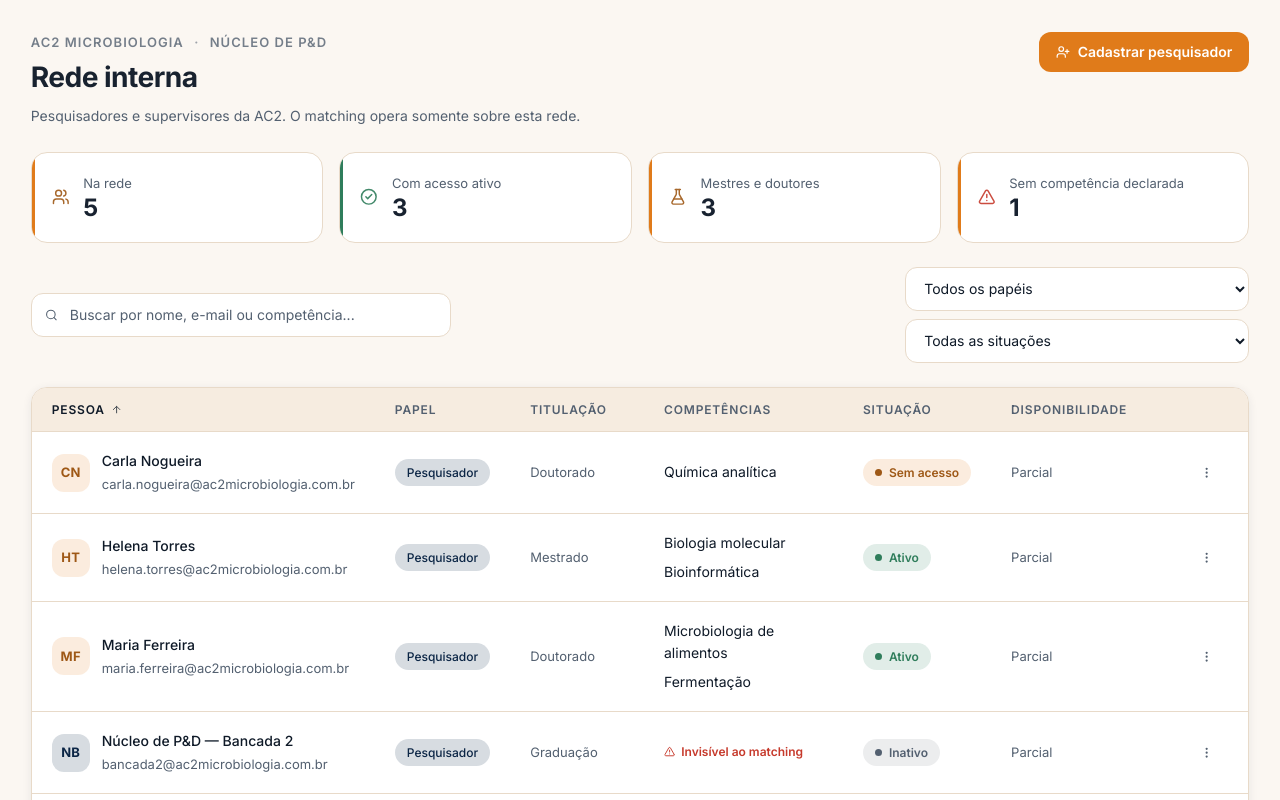
Test case: RedePage › abre a ficha clicando na pessoa, sem passar pelo menu
Expected: the text "Maria Ferreira" is shown, [102, 636, 195, 653]
Click the button with aria-label "abrir a ficha de helena torres".
click(71, 558)  # box [52, 535, 355, 580]
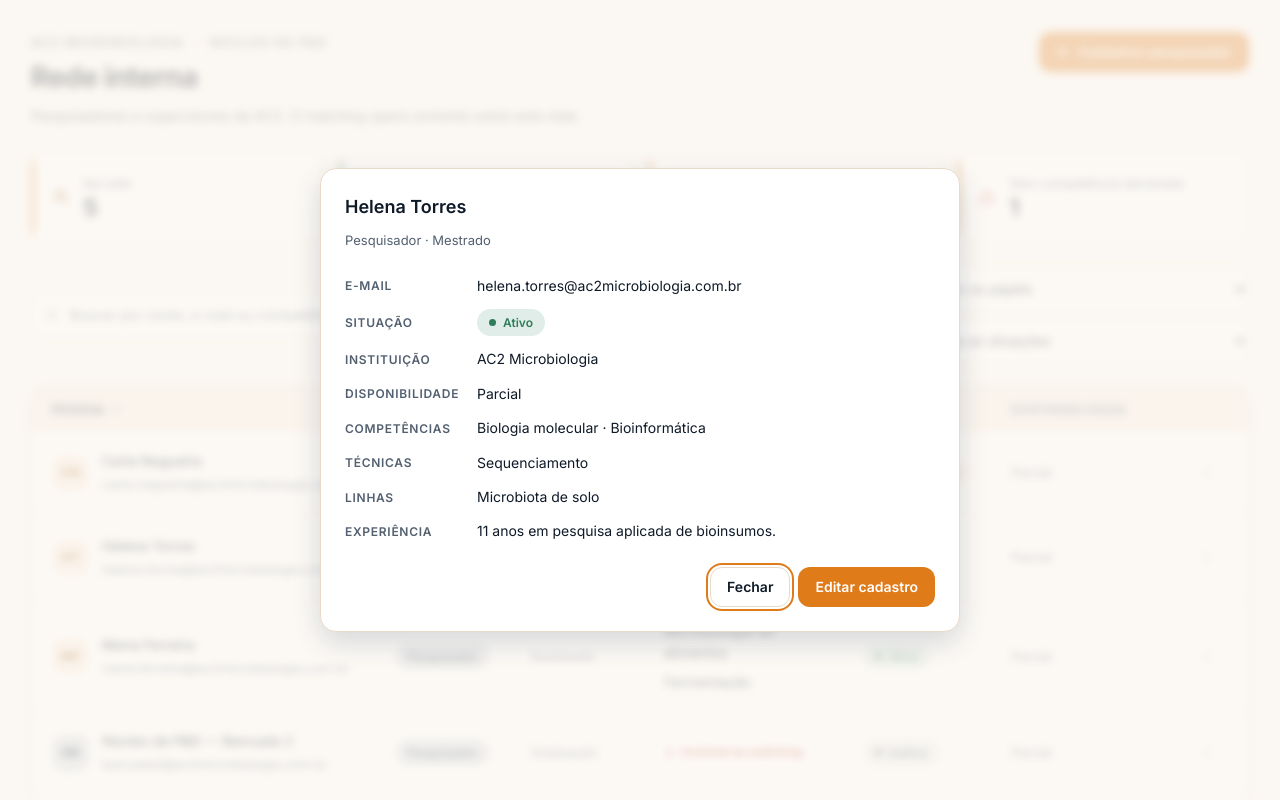
Result: the dialog shows "Biologia molecular" at [477, 419, 706, 436]
Result: the dialog shows "Sequenciamento" at [477, 454, 588, 471]
